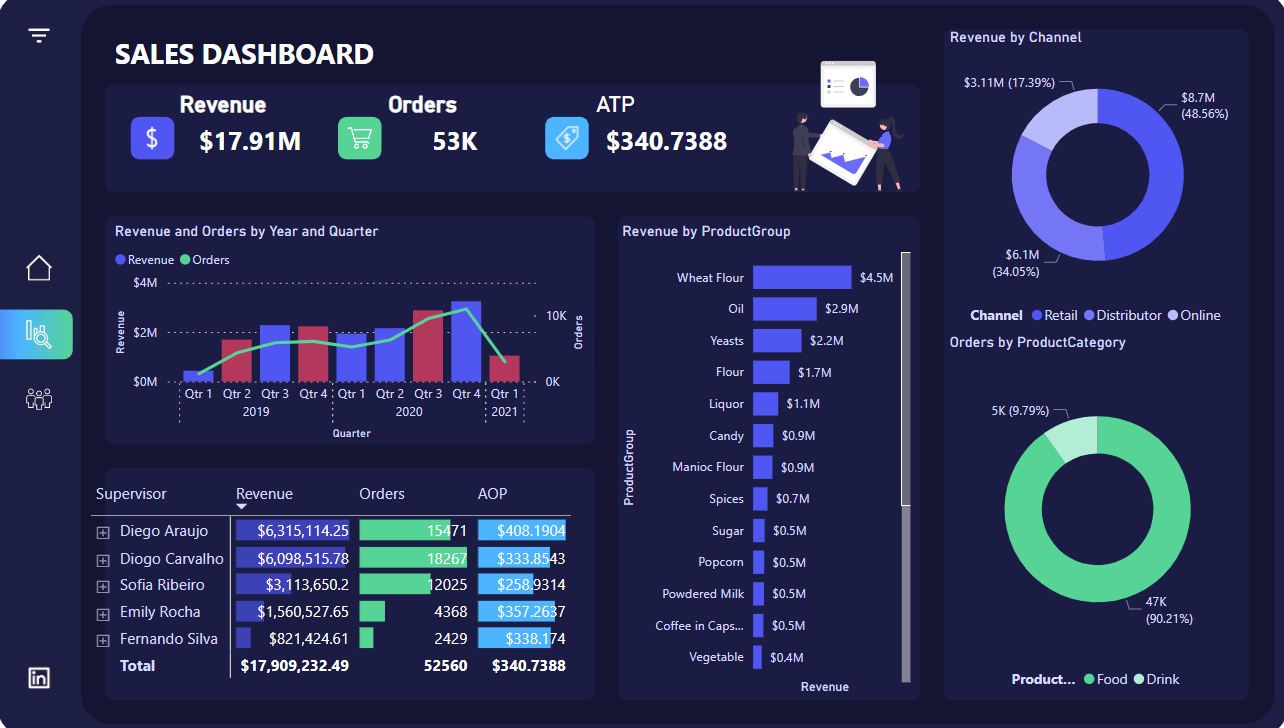

The dashboard page shown, as its layout file describes it:
{"tool":"powerbi","page":{"name":"Sales Dashboard","canvas":[1280,720],"ordinal":0},"visuals":[{"type":"card","title":"Revenue","fields":{"Values":["Key Measures.Revenue"]},"box":[204.7,94,146.4,72.6],"z":0},{"type":"card","title":"Orders","fields":{"Values":["Key Measures.Orders"]},"box":[407,94,138,72.6],"z":1000},{"type":"card","title":"ATP","fields":{"Values":["Key Measures.ATP"]},"box":[606.9,94,146.4,72.6],"z":2000},{"type":"lineStackedColumnComboChart","fields":{"Y":["Key Measures.Revenue"],"Category":["Date.Date.Variation.Date Hierarchy.Year","Date.Date.Variation.Date Hierarchy.Quarter"],"Y2":["Key Measures.Orders"]},"box":[142.8,221.4,464.1,214.2],"z":3000},{"type":"clusteredBarChart","fields":{"Y":["Key Measures.Revenue"],"Category":["Product.ProductGroup"]},"box":[631.9,221.4,288,459.4],"z":4000},{"type":"pivotTable","fields":{"Values":["Key Measures.Revenue","Key Measures.Orders","Key Measures.ATP"],"Rows":["dsalesperson.Supervisor","dsalesperson.Salesperson"]},"box":[119,462.9,487.9,217.8],"z":5000},{"type":"donutChart","fields":{"Y":["Key Measures.Revenue"],"Category":["dsalesperson.Channel"]},"box":[948.5,33.3,296.3,295.1],"z":6000},{"type":"donutChart","fields":{"Y":["Key Measures.Orders"],"Category":["Product.ProductCategory"]},"box":[948,328,296,352],"z":7000},{"type":"textbox","box":[142.8,33.3,360.6,60.7],"z":9000},{"type":"actionButton","box":[37,349.6,72.7,67.2],"z":10000}]}

Visuals, with their boxes on the page's 1280x720 design canvas (x1, y1, x2, y2). These are canvas units, not pixel positions in the 1284x728 screenshot, which may show the page scaled, cropped or inside an application window:
"Revenue" card: pyautogui.locateOnScreen(205, 94, 351, 167)
"Orders" card: pyautogui.locateOnScreen(407, 94, 545, 167)
"ATP" card: pyautogui.locateOnScreen(607, 94, 753, 167)
lineStackedColumnComboChart - Key Measures.Revenue x Date.Date.Variation.Date Hierarchy.Year: pyautogui.locateOnScreen(143, 221, 607, 436)
clusteredBarChart - Key Measures.Revenue x Product.ProductGroup: pyautogui.locateOnScreen(632, 221, 920, 681)
pivotTable - Key Measures.Revenue x Key Measures.Orders: pyautogui.locateOnScreen(119, 463, 607, 681)
donutChart - Key Measures.Revenue x dsalesperson.Channel: pyautogui.locateOnScreen(948, 33, 1245, 328)
donutChart - Key Measures.Orders x Product.ProductCategory: pyautogui.locateOnScreen(948, 328, 1244, 680)
textbox: pyautogui.locateOnScreen(143, 33, 503, 94)
actionButton: pyautogui.locateOnScreen(37, 350, 110, 417)
